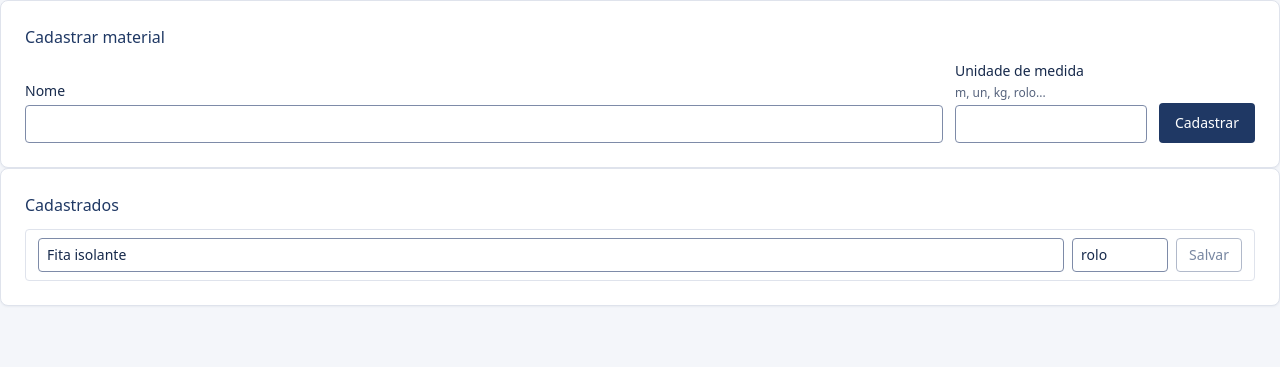
Test case: Catálogo de materiais › a recusa do servidor (nome repetido) aparece na tela
The image size is (1280, 367).
Type "fita isolante" into the field labelled "Nome" at (484, 124), box [25,105,943,143]
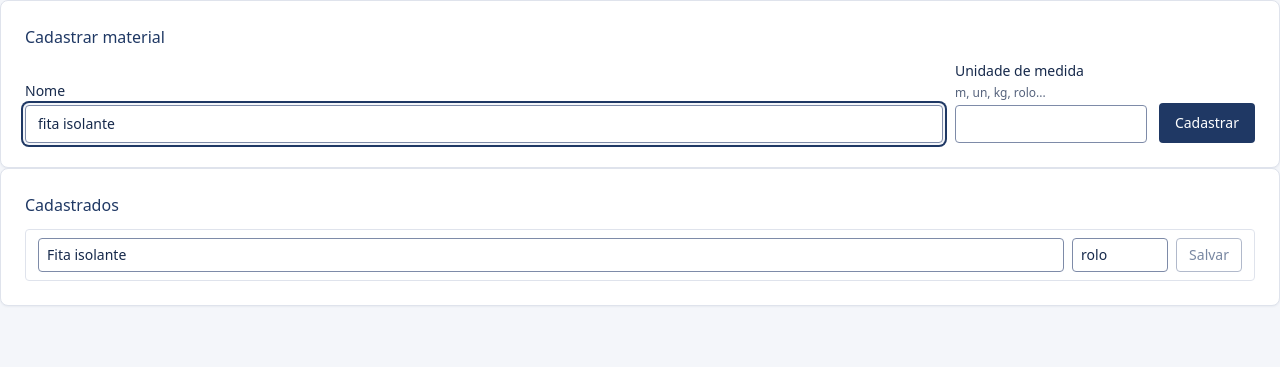
Type "rolo" into the field labelled "Unidade de medida" at (1051, 124), box [955,105,1147,143]
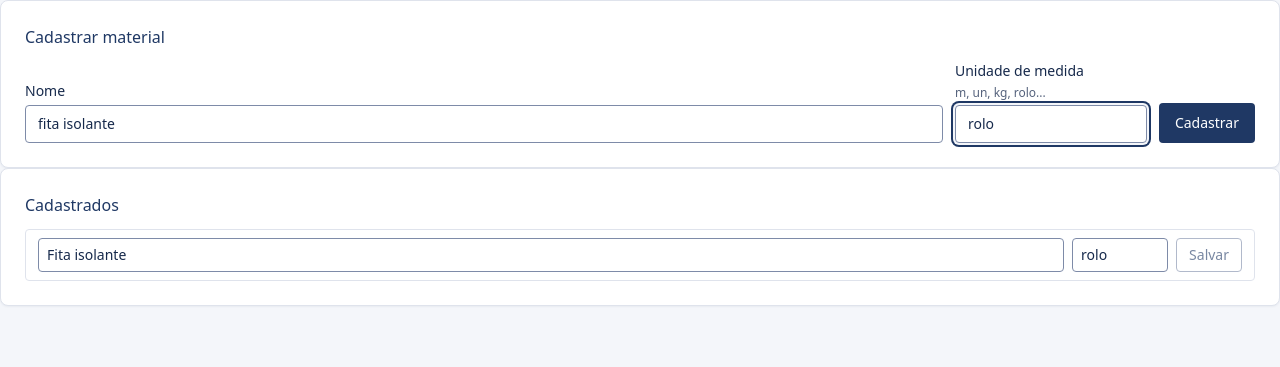
Click the button "Cadastrar" at (1207, 123), box [1159,103,1255,143]
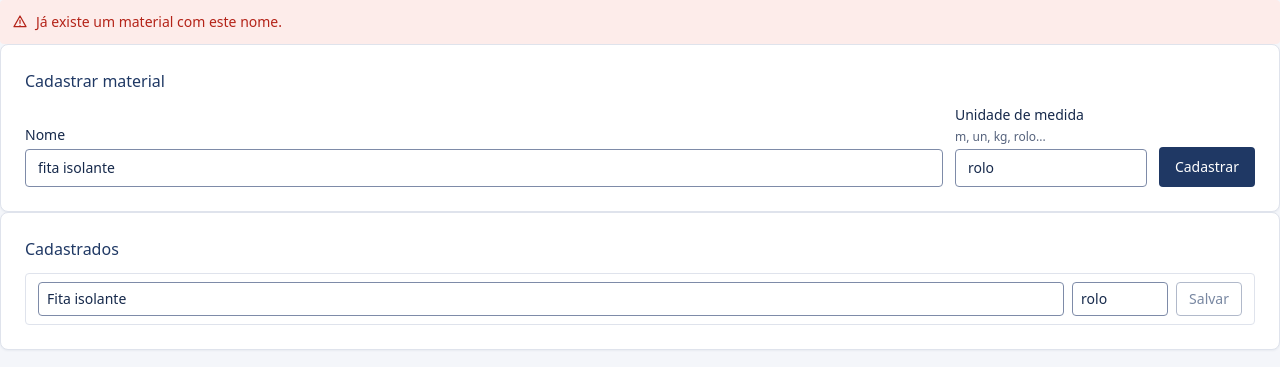
Check: the message reads "Já existe um material com este nome.", box [36,12,282,31]
